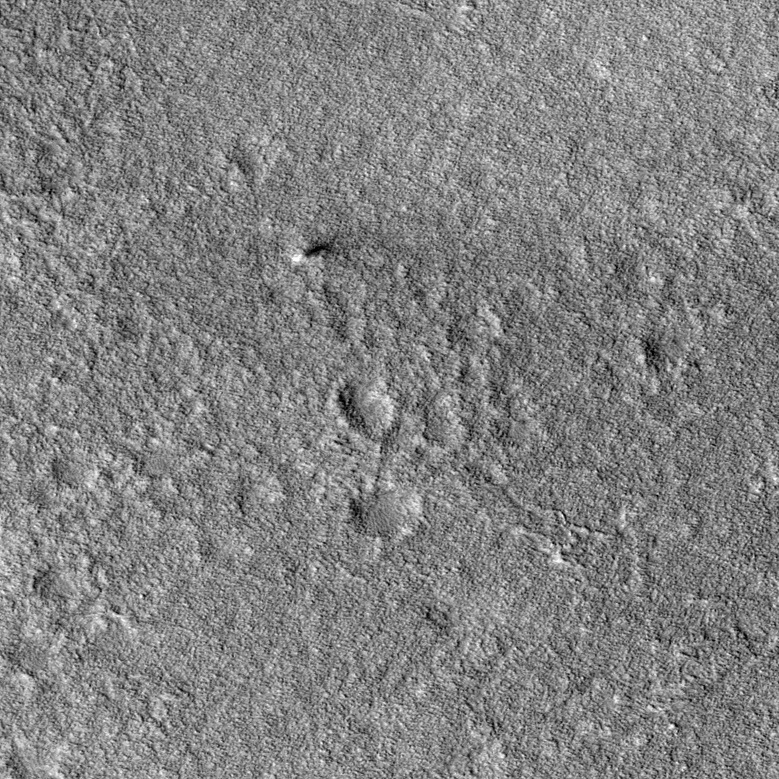dust_devil: (291, 241, 333, 263)
